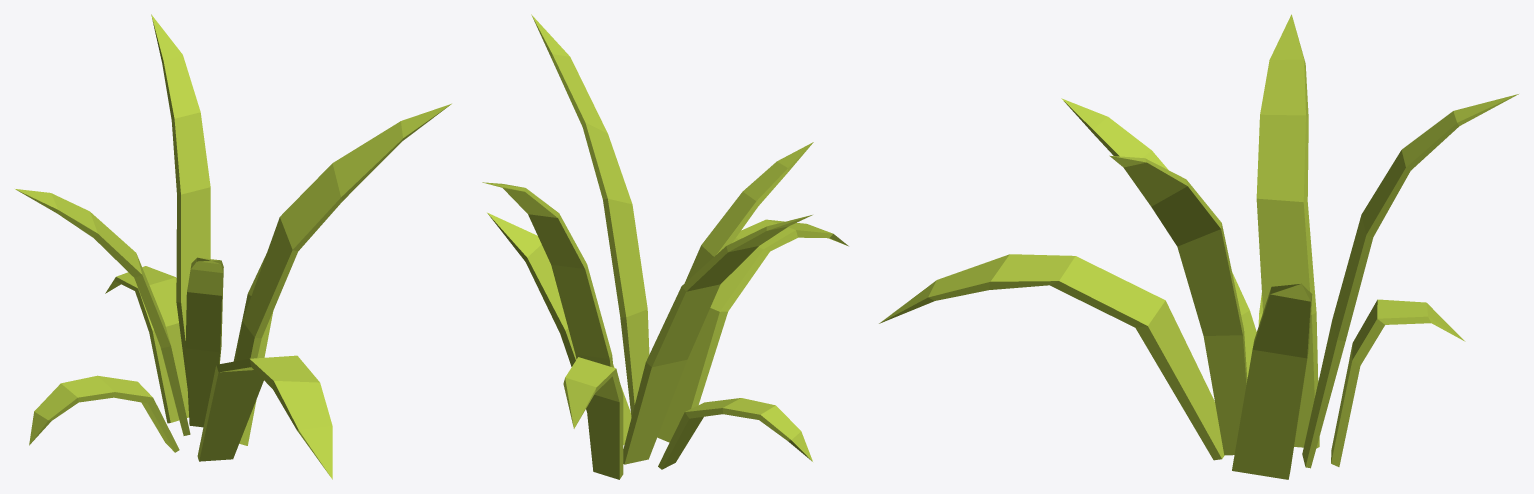
The model's file is grass_06.fbx.
The picture shows the model from 3 angles, left to right: view 1: azimuth 30°, elevation 25°; view 2: azimuth 150°, elevation 25°; view 3: azimuth 270°, elevation 25°; orthographic projection. The views are drawn at different scales.
Parts seen in each view (by area): view 1: grass_006; view 2: grass_006; view 3: grass_006.
Boxes of the visible parts, bbox=[...] form: grass_006: bbox=[15, 14, 451, 479]; grass_006: bbox=[482, 14, 848, 479]; grass_006: bbox=[879, 14, 1518, 479].
Bounding box in the file's own units: 44.45 × 41.21 × 58.63.
